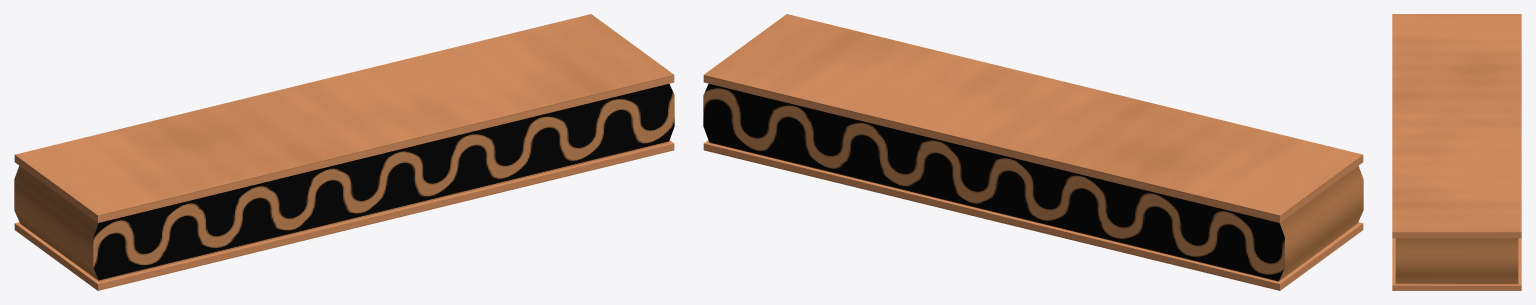
The model's file is M_Cardboard_Square_05x2.fbx.
3 views of the same model, side by side, from view 1: azimuth 30°, elevation 25°; view 2: azimuth 150°, elevation 25°; view 3: azimuth 270°, elevation 25° (orthographic). The views are drawn at different scales.
Visible parts, largest first — view 1: Sides, Panel; view 2: Sides, Panel; view 3: Panel, Sides.
Part boxes in pixels (box(x1,y1,x2,y2)): Sides: box(14, 75, 674, 290); Panel: box(15, 14, 673, 215); Sides: box(703, 75, 1363, 290); Panel: box(704, 14, 1362, 215); Panel: box(1392, 14, 1521, 232); Sides: box(1392, 232, 1521, 290).
Size of the model in its own units: 4.04 by 0.5 by 1.
1 material, 1 textured.
